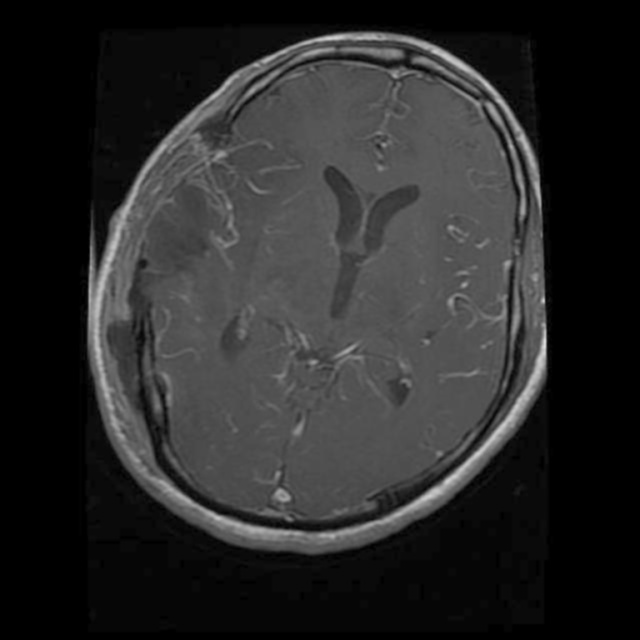pituitary tumor: (144, 178, 222, 274)
